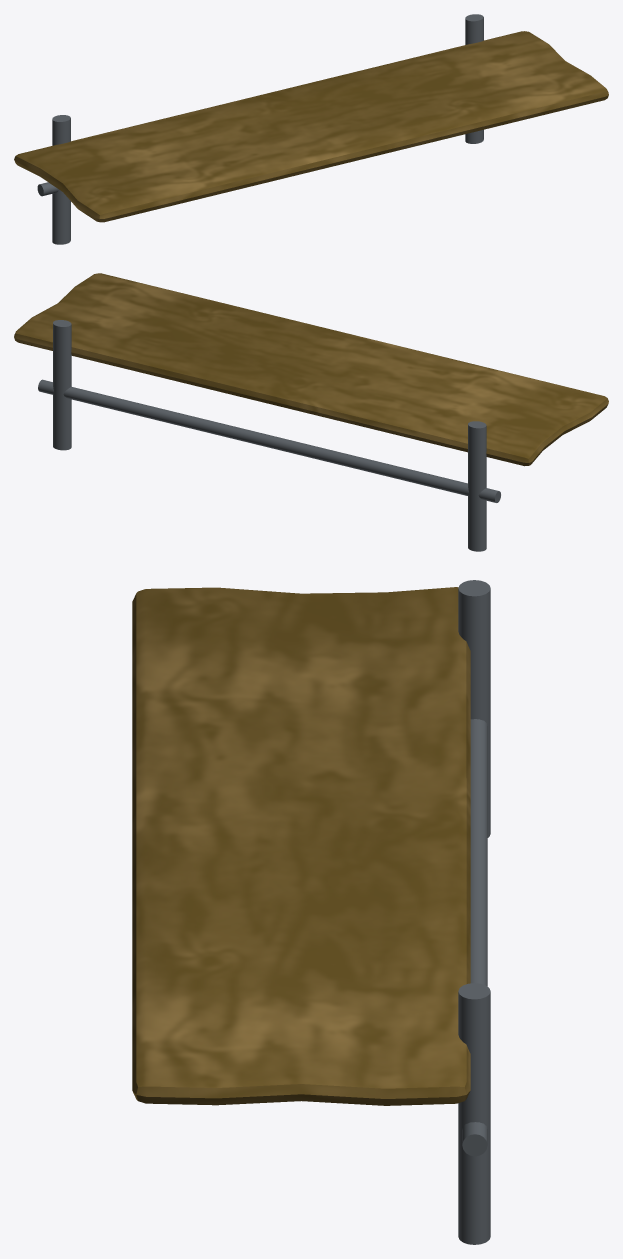
File: platform.fbx
3 renders of one model, top to bottom at view 1: azimuth 30°, elevation 25°; view 2: azimuth 150°, elevation 25°; view 3: azimuth 270°, elevation 25°, orthographic. The views are drawn at different scales.
Visible parts, largest first — view 1: Cylinder; view 2: Cylinder; view 3: Cylinder.
Boxes of the visible parts, <box> form: Cylinder: <box>14,14,608,244</box>; Cylinder: <box>14,273,608,551</box>; Cylinder: <box>132,580,490,1244</box>.
Size of the model in its own units: 253 by 57.27 by 75.78.
